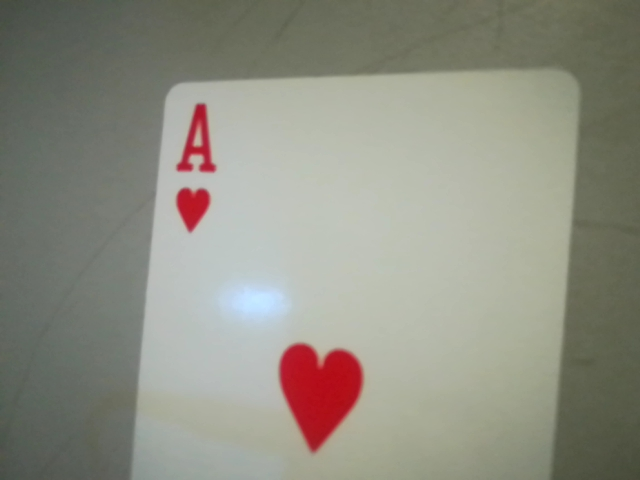hx a: (160, 91, 230, 246)
